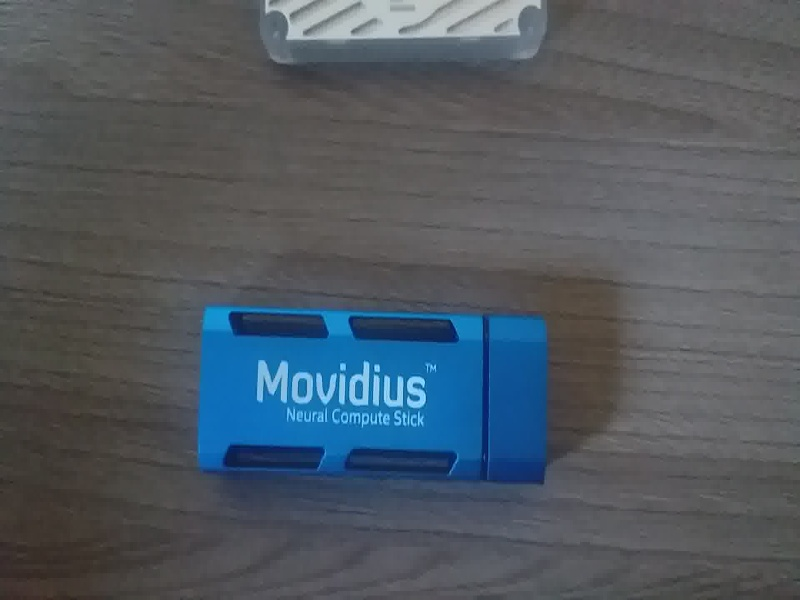coral: (257, 1, 556, 79)
movidius: (190, 301, 553, 487)
